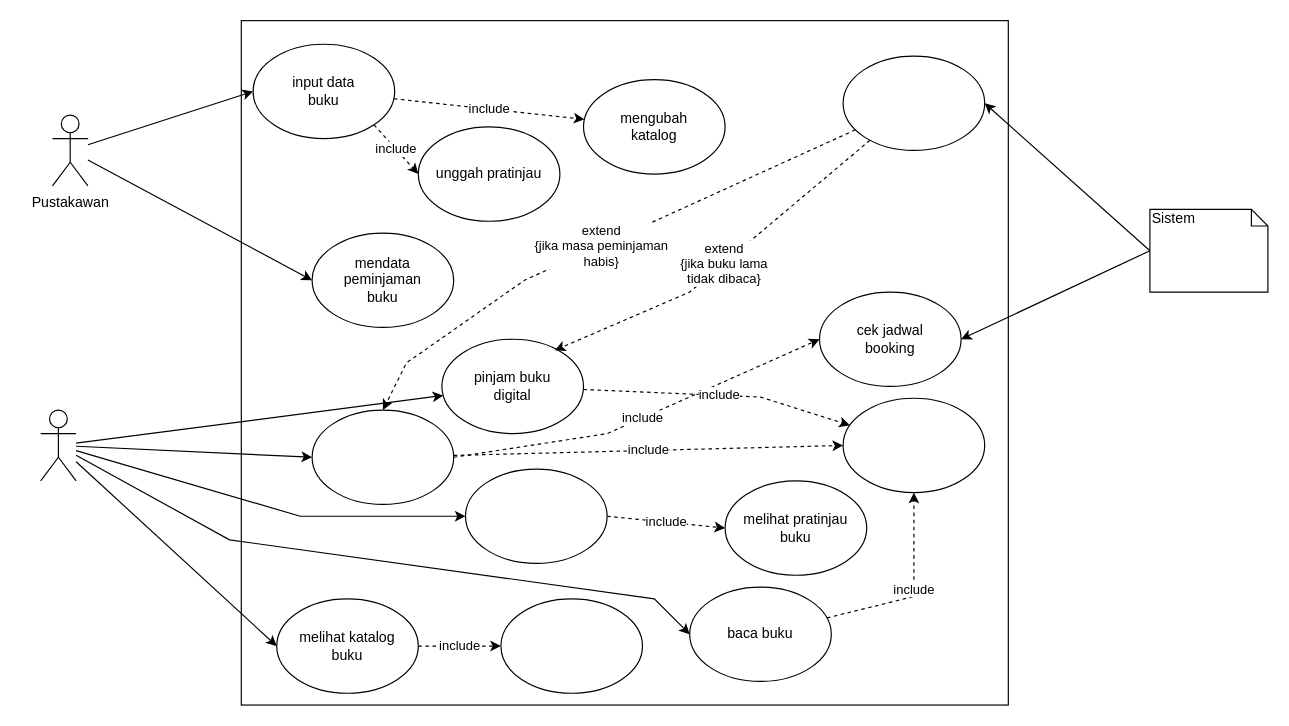
Image size: 1289x726. Some labels were removed from this diagram. Here are the shapes that lost their labels. From the top down, the centre of each, then its label:
(x=913, y=102): kirim notif
(x=58, y=445): Pengunjung
(x=382, y=456): booking buku fisik
(x=913, y=445): login
(x=535, y=515): melihat detail buku
(x=571, y=645): cari buku
